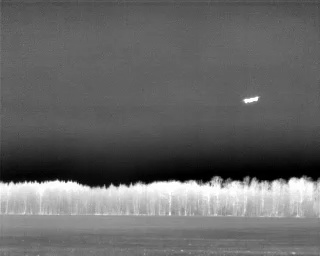DRONE: (240, 91, 263, 109)
